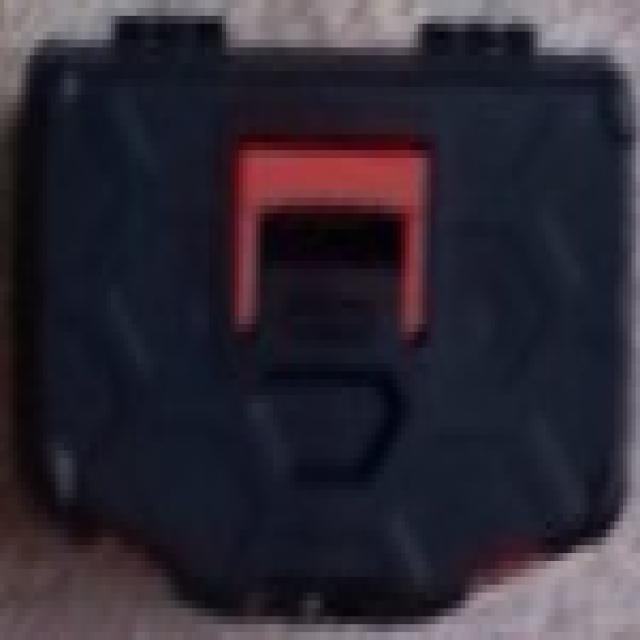boxes: (16, 12, 632, 624)
